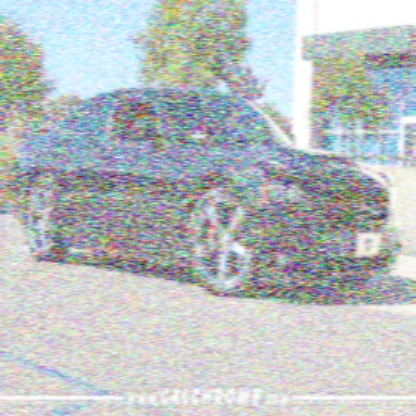Vehicle: (14, 86, 406, 296)
